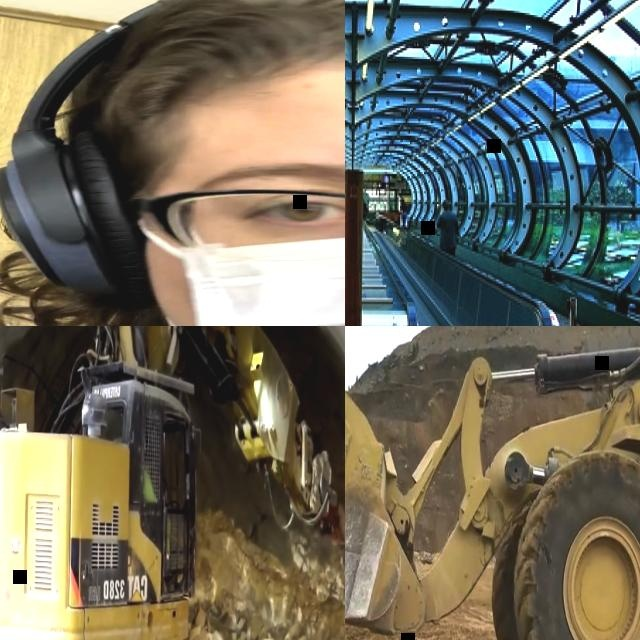NO-Hardhat: (79, 0, 345, 142), (443, 200, 453, 211), (403, 207, 405, 211)
NO-Safety Vest: (442, 210, 458, 246), (402, 210, 407, 219)
Person: (0, 0, 345, 326), (140, 448, 172, 577), (437, 200, 459, 255), (402, 207, 407, 226)
Safety Vest: (143, 471, 155, 500)
machinery: (0, 326, 345, 640), (345, 326, 640, 640)
